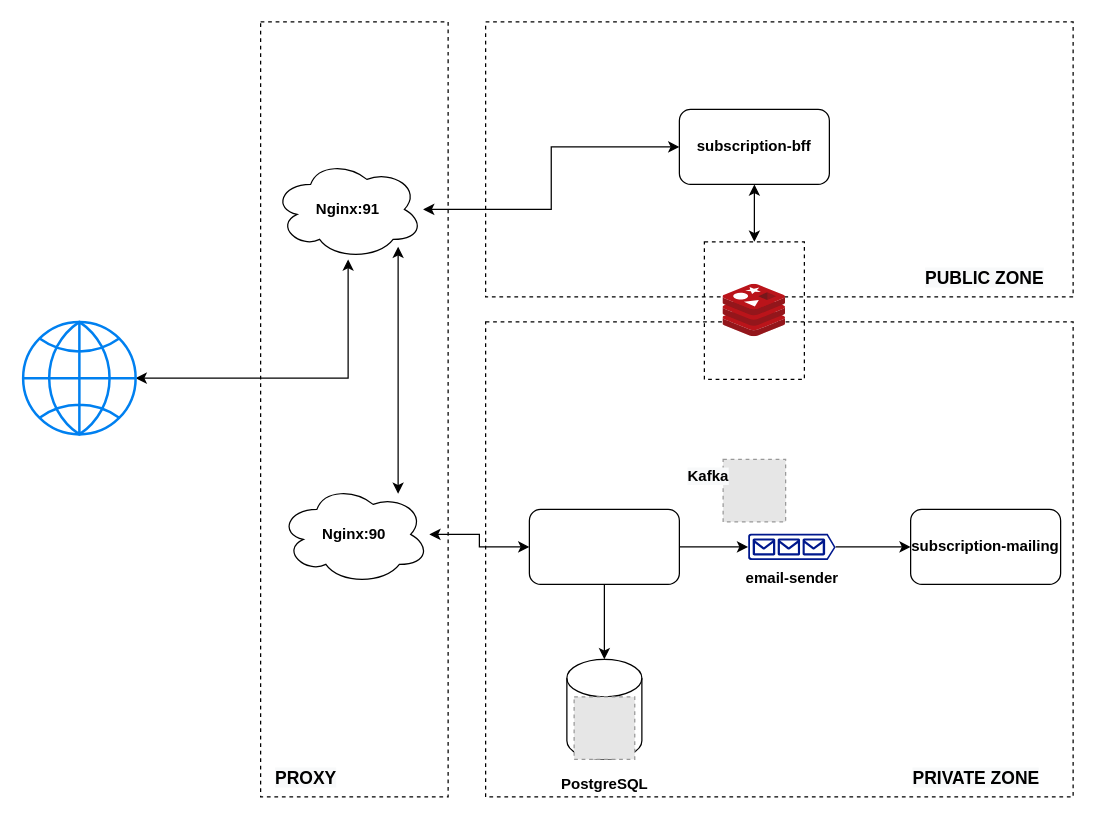
This 1106x819 diagram has some shape labels left out. Grey dashed boxes stand in for pictures. The centre of each missing label's shape, as x and y in pixels:
INTERNET: (x=78, y=377)
Redis: (x=753, y=310)
subscription-core: (x=603, y=546)
